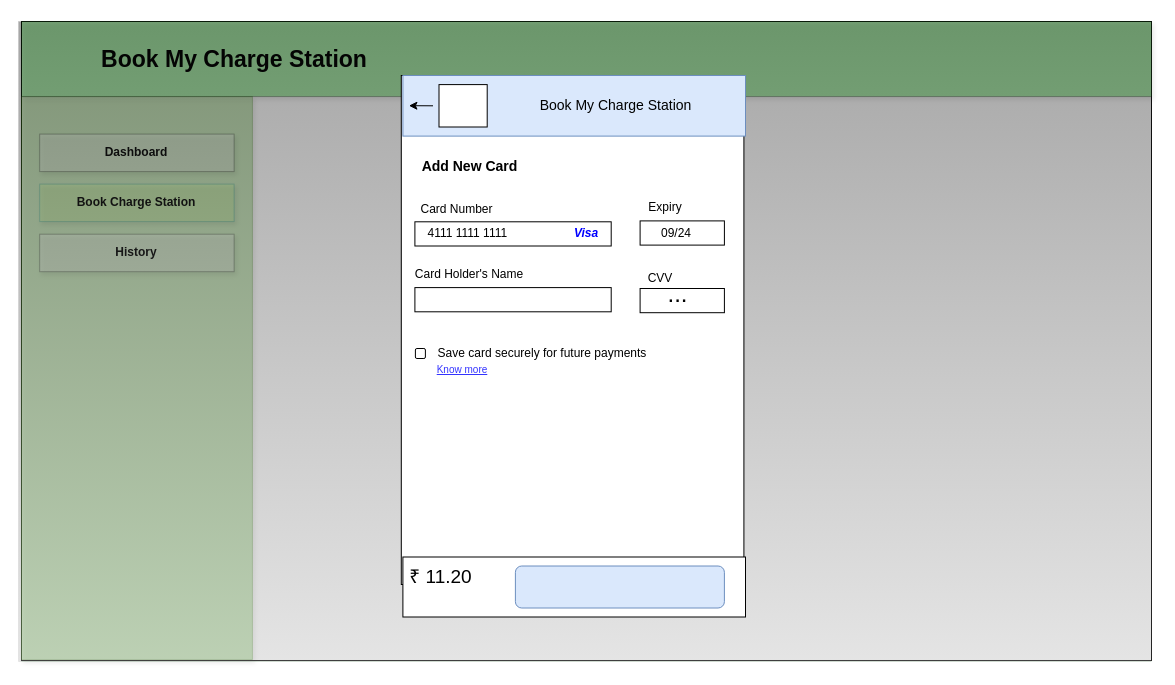
The diagram is 1175 pixels wide and 685 high, and some of its shapes have lost their labels. The centre of each missing label's shape, as x and y in pixels:
"Pay Now" belongs at (x=619, y=586).
"Test Name" belongs at (x=512, y=299).
